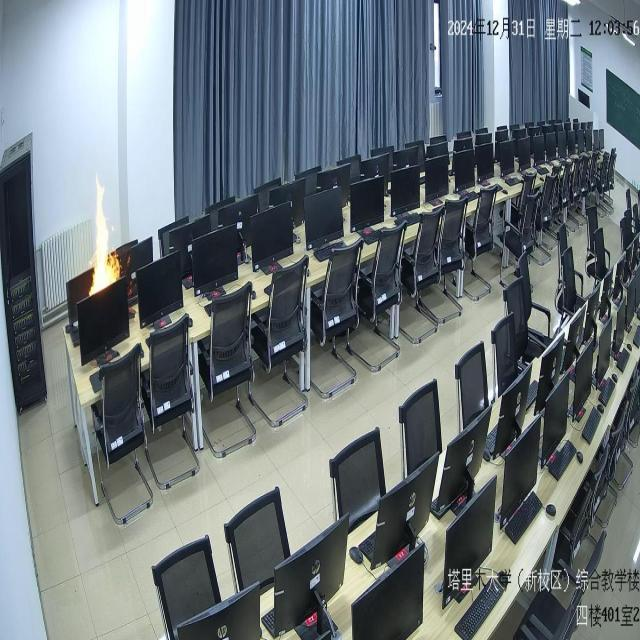smoke: (87, 175, 120, 296)
